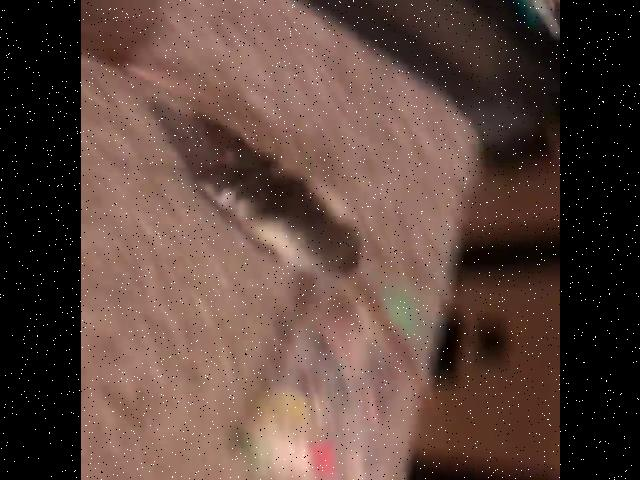Tikus: (185, 119, 372, 276)
